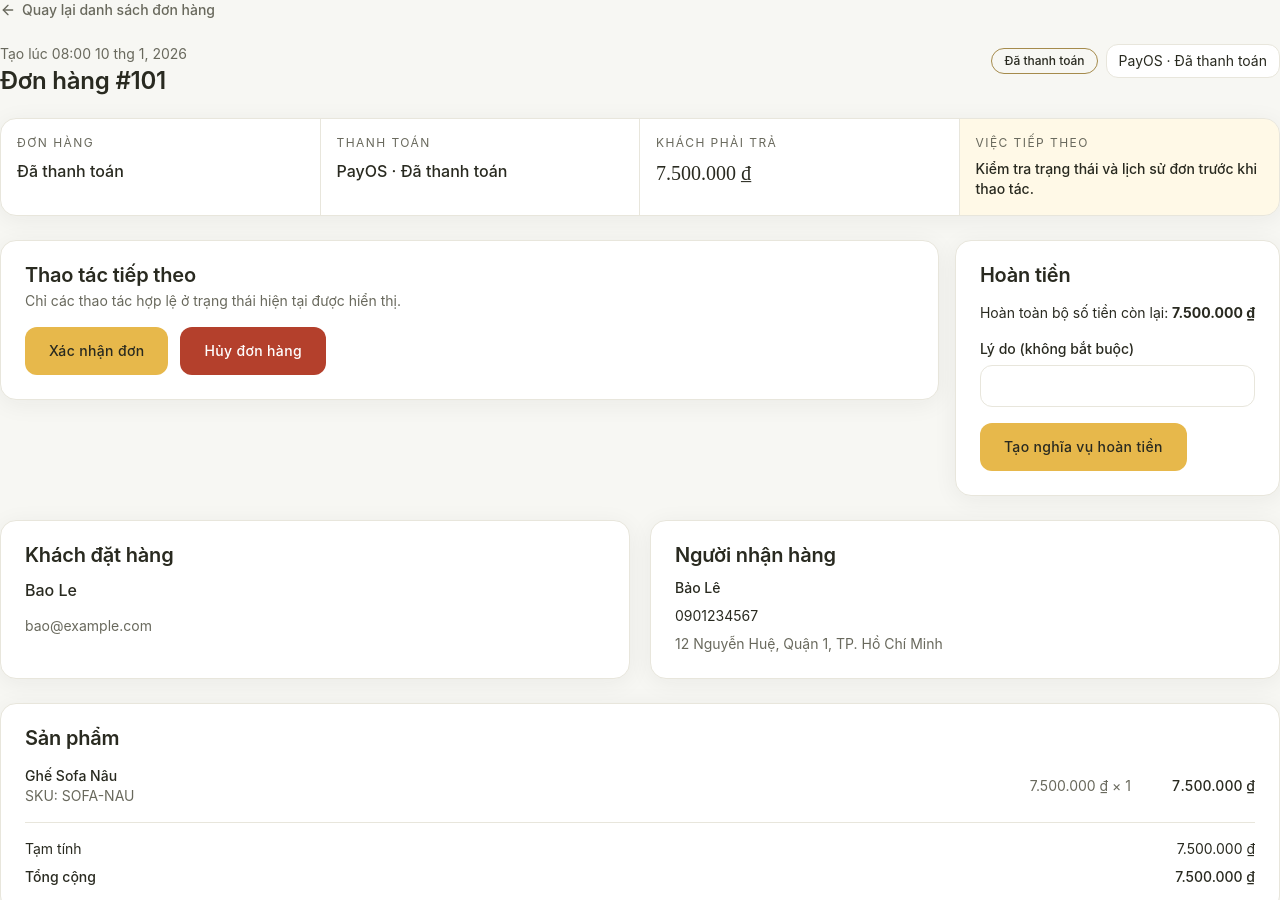
Test: AdminOrderDetailPage › keeps the refund review open and announces an API error
Expected: the heading "Đơn hàng #101" is shown, [0, 68, 187, 94]
Click the button "Tạo nghĩa vụ hoàn tiền" at (1083, 446), box [980, 422, 1187, 470]
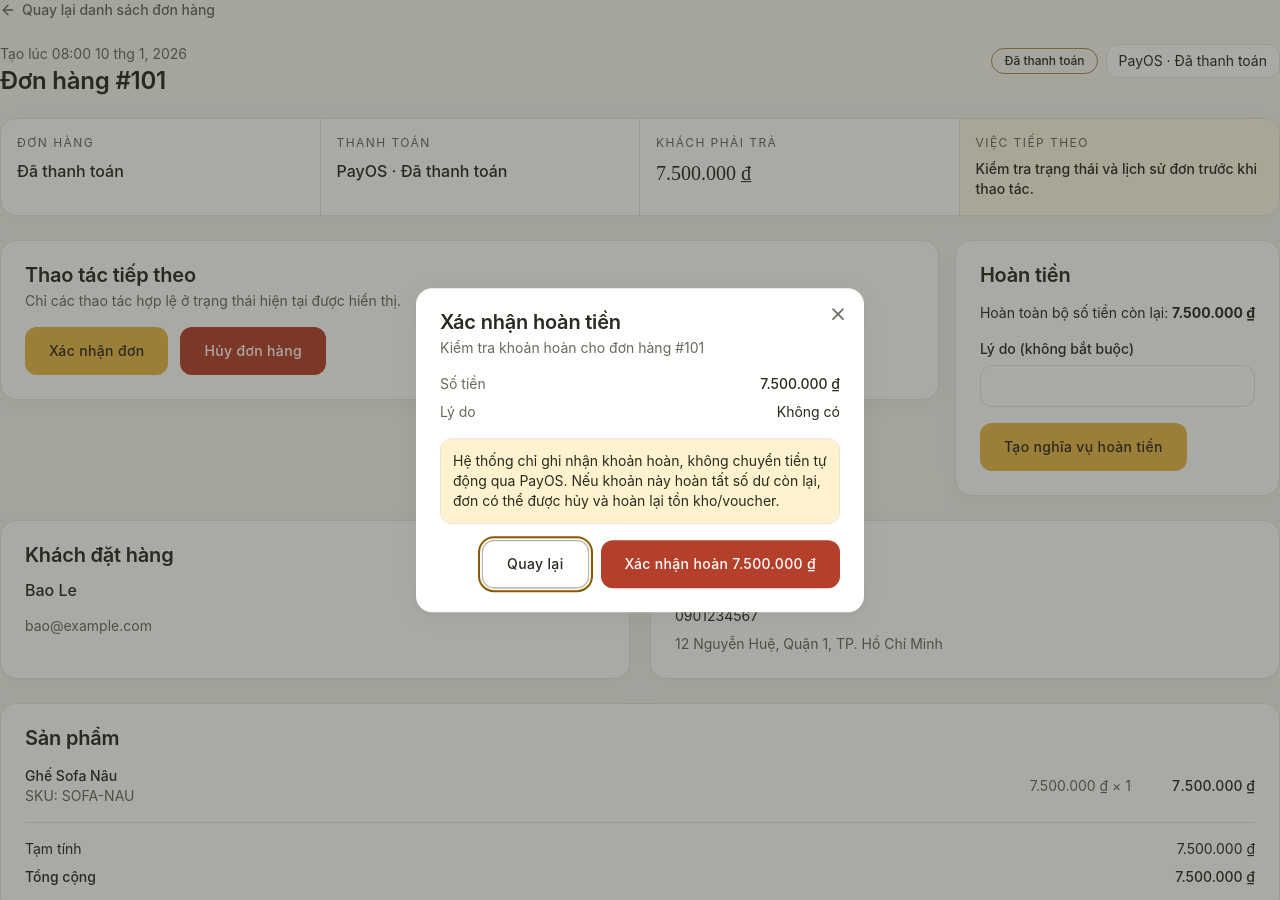
Click the button "Xác nhận hoàn 7.500.000 ₫" at (720, 564), box [601, 540, 840, 588]
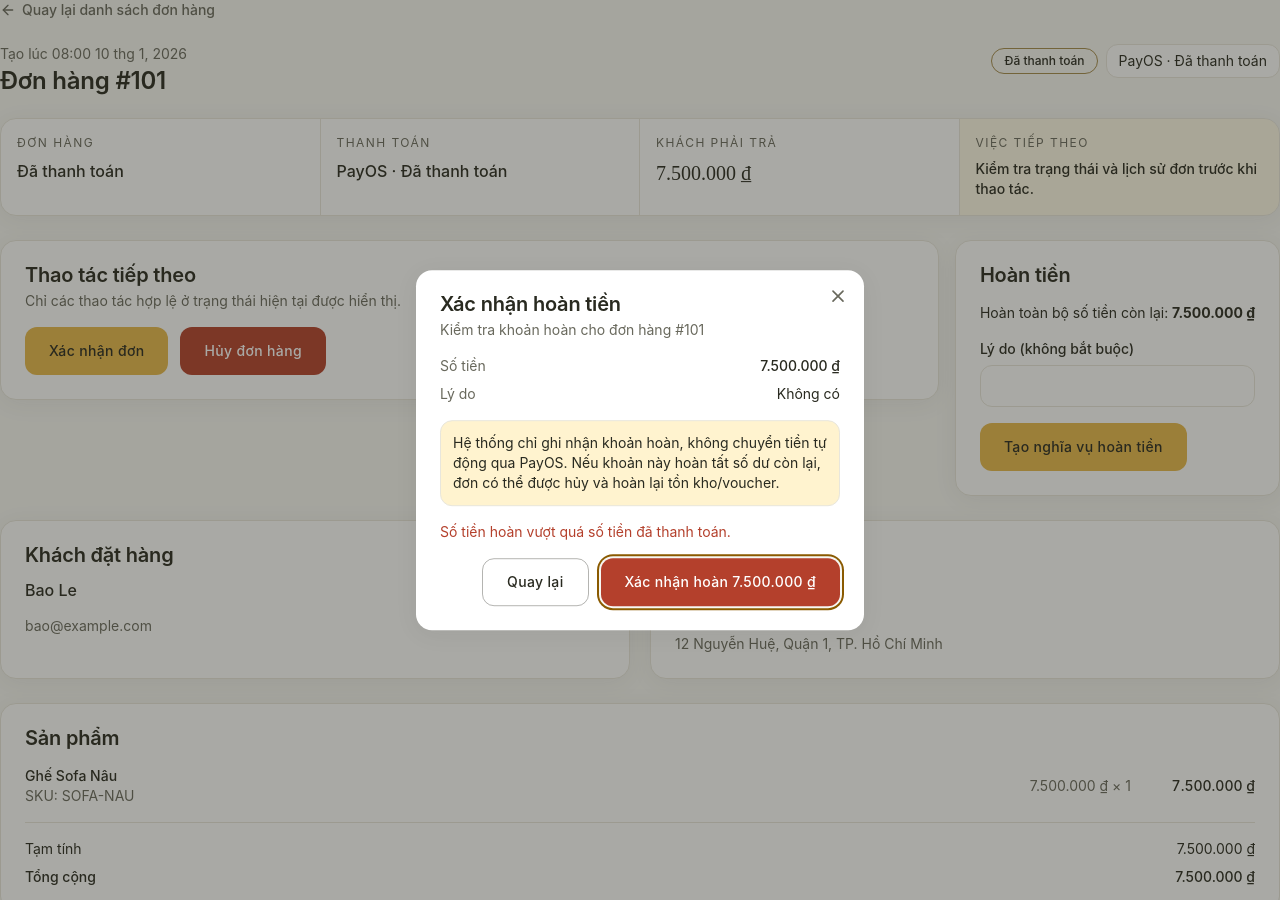
Now the dialog "Xác nhận hoàn tiền" is shown, box [416, 270, 864, 630]
Now the message reads "Số tiền hoàn vượt quá số tiền đã thanh toán.", box [440, 523, 731, 540]
